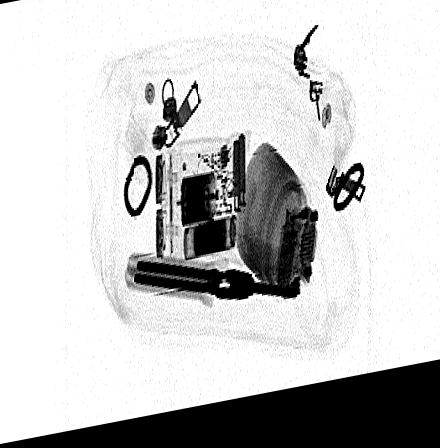Pliers: (131, 264, 297, 310)
